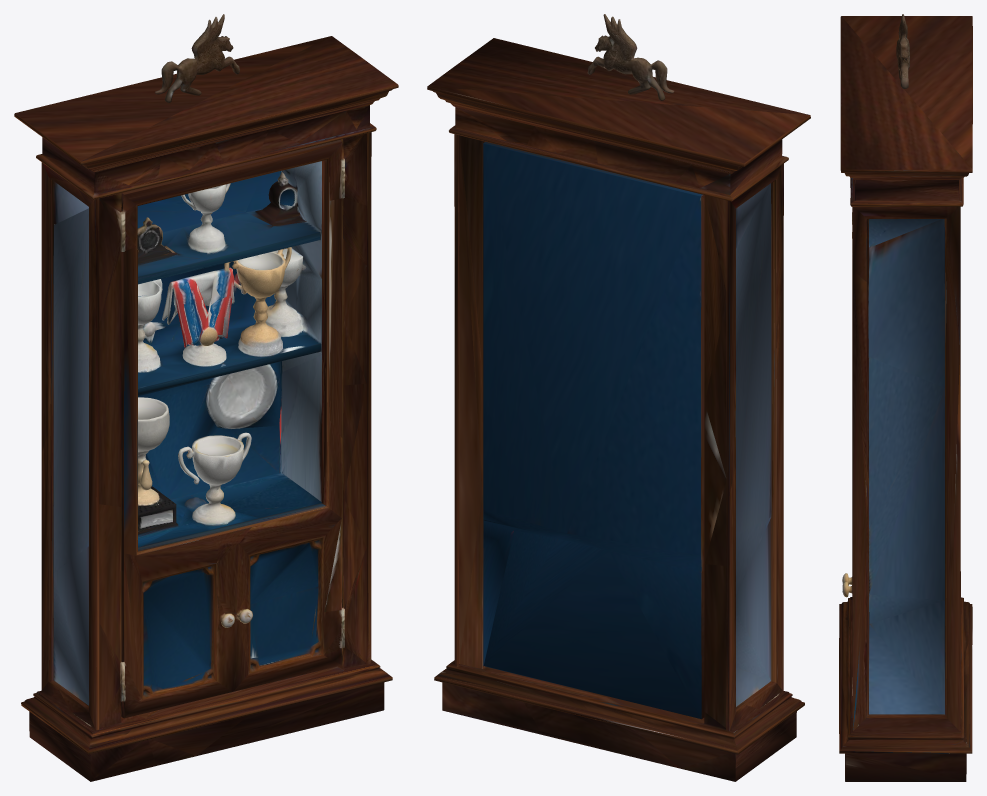
The model's file is trophy_h4.glb.
3 views of the same model, side by side, from view 1: azimuth 30°, elevation 25°; view 2: azimuth 150°, elevation 25°; view 3: azimuth 270°, elevation 25° (orthographic).
Visible parts, largest first — view 1: body; view 2: body; view 3: body.
Part boxes in pixels (bbox=[...]): body: bbox=[14, 14, 398, 781]; body: bbox=[427, 14, 810, 781]; body: bbox=[839, 14, 972, 781].
Bounding box in the file's own units: 1.04 × 2.2 × 0.3814.
Materials: 1 (1 with a texture image).
